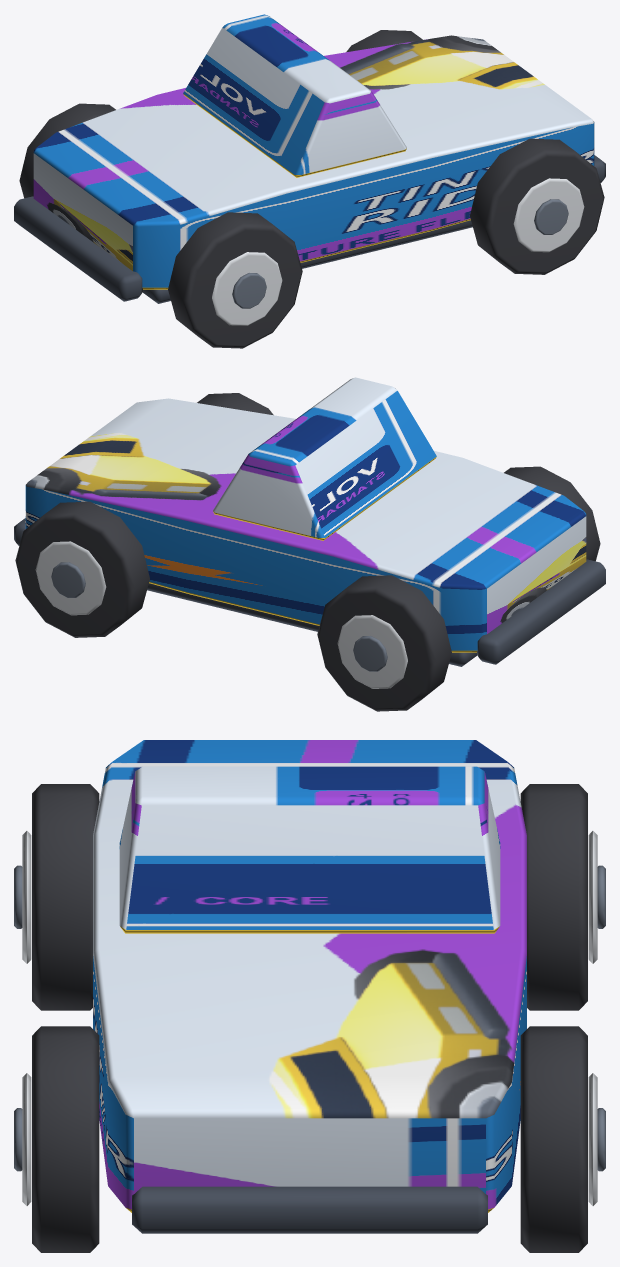
The picture shows the model from 3 angles, top to bottom: view 1: azimuth 30°, elevation 25°; view 2: azimuth 150°, elevation 25°; view 3: azimuth 270°, elevation 25°; orthographic projection. The views are drawn at different scales.
Parts seen in each view (by area): view 1: FF-03_connected_shell, FF-03_cabin, Tire, Tire.002, front bumper, Rim.002, Rim, Tire.001, underbody, Hub.002, Hub, Tire.003; view 2: FF-03_connected_shell, FF-03_cabin, Tire.001, Tire.003, front bumper, Rim.003, Rim.001, Tire, underbody, Hub.003, Hub.001, Tire.002; view 3: FF-03_connected_shell, FF-03_cabin, rear bumper, Tire.002, Tire.003, Tire, Tire.001, Rim, Rim.001, Rim.002, Rim.003.
Boxes of the visible parts, left/top/right/bottom form: FF-03_connected_shell: left=33, top=35, right=594, bottom=289; FF-03_cabin: left=183, top=14, right=406, bottom=177; Tire: left=168, top=212, right=302, bottom=348; Tire.002: left=470, top=138, right=604, bottom=274; front bumper: left=14, top=196, right=142, bottom=301; Rim.002: left=513, top=178, right=584, bottom=252; Rim: left=212, top=252, right=282, bottom=325; Tire.001: left=19, top=103, right=115, bottom=198; underbody: left=142, top=220, right=472, bottom=303; Hub.002: left=534, top=199, right=568, bottom=234; Hub: left=232, top=273, right=266, bottom=308; Tire.003: left=346, top=30, right=422, bottom=52; FF-03_connected_shell: left=25, top=398, right=586, bottom=652; FF-03_cabin: left=213, top=377, right=436, bottom=540; Tire.001: left=317, top=575, right=451, bottom=711; Tire.003: left=15, top=501, right=149, bottom=637; front bumper: left=477, top=559, right=605, bottom=664; Rim.003: left=35, top=541, right=106, bottom=615; Rim.001: left=337, top=615, right=407, bottom=688; Tire: left=504, top=466, right=600, bottom=561; underbody: left=147, top=583, right=477, bottom=666; Hub.003: left=51, top=562, right=85, bottom=597; Hub.001: left=353, top=636, right=387, bottom=671; Tire.002: left=197, top=393, right=273, bottom=415; FF-03_connected_shell: left=93, top=740, right=526, bottom=1212; FF-03_cabin: left=119, top=766, right=500, bottom=933; rear bumper: left=132, top=1186, right=487, bottom=1233; Tire.002: left=32, top=1026, right=99, bottom=1252; Tire.003: left=520, top=1026, right=587, bottom=1252; Tire: left=32, top=784, right=99, bottom=1010; Tire.001: left=520, top=784, right=587, bottom=1010; Rim: left=22, top=831, right=31, bottom=963; Rim.001: left=588, top=831, right=597, bottom=963; Rim.002: left=22, top=1073, right=31, bottom=1205; Rim.003: left=588, top=1073, right=597, bottom=1205.
Size of the model in its own units: 359 by 140 by 229.
